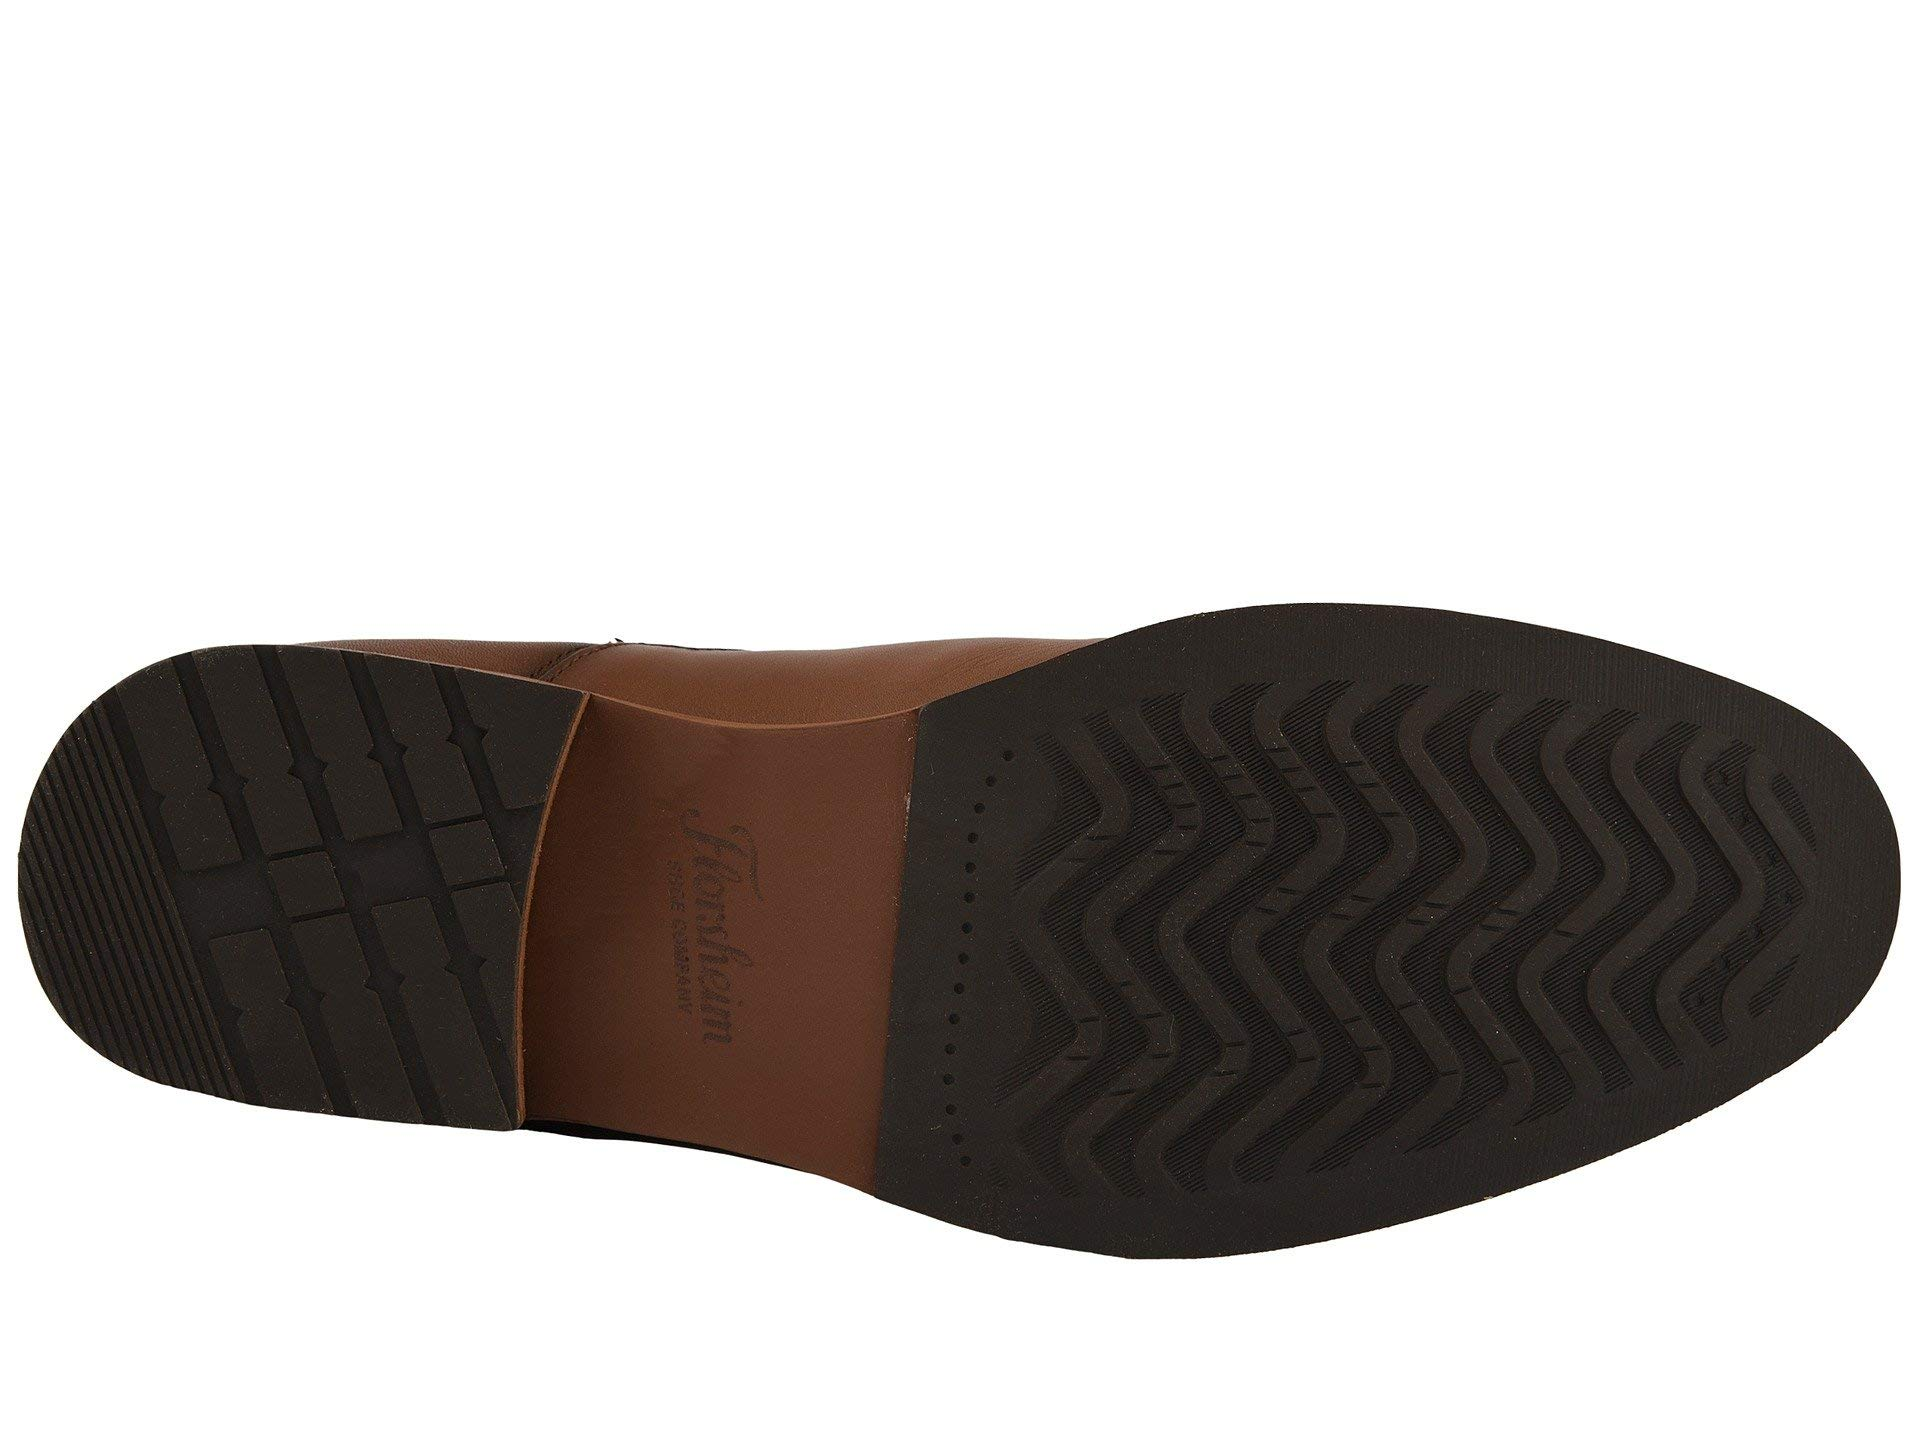chevron: (1111, 805, 1444, 1092)
